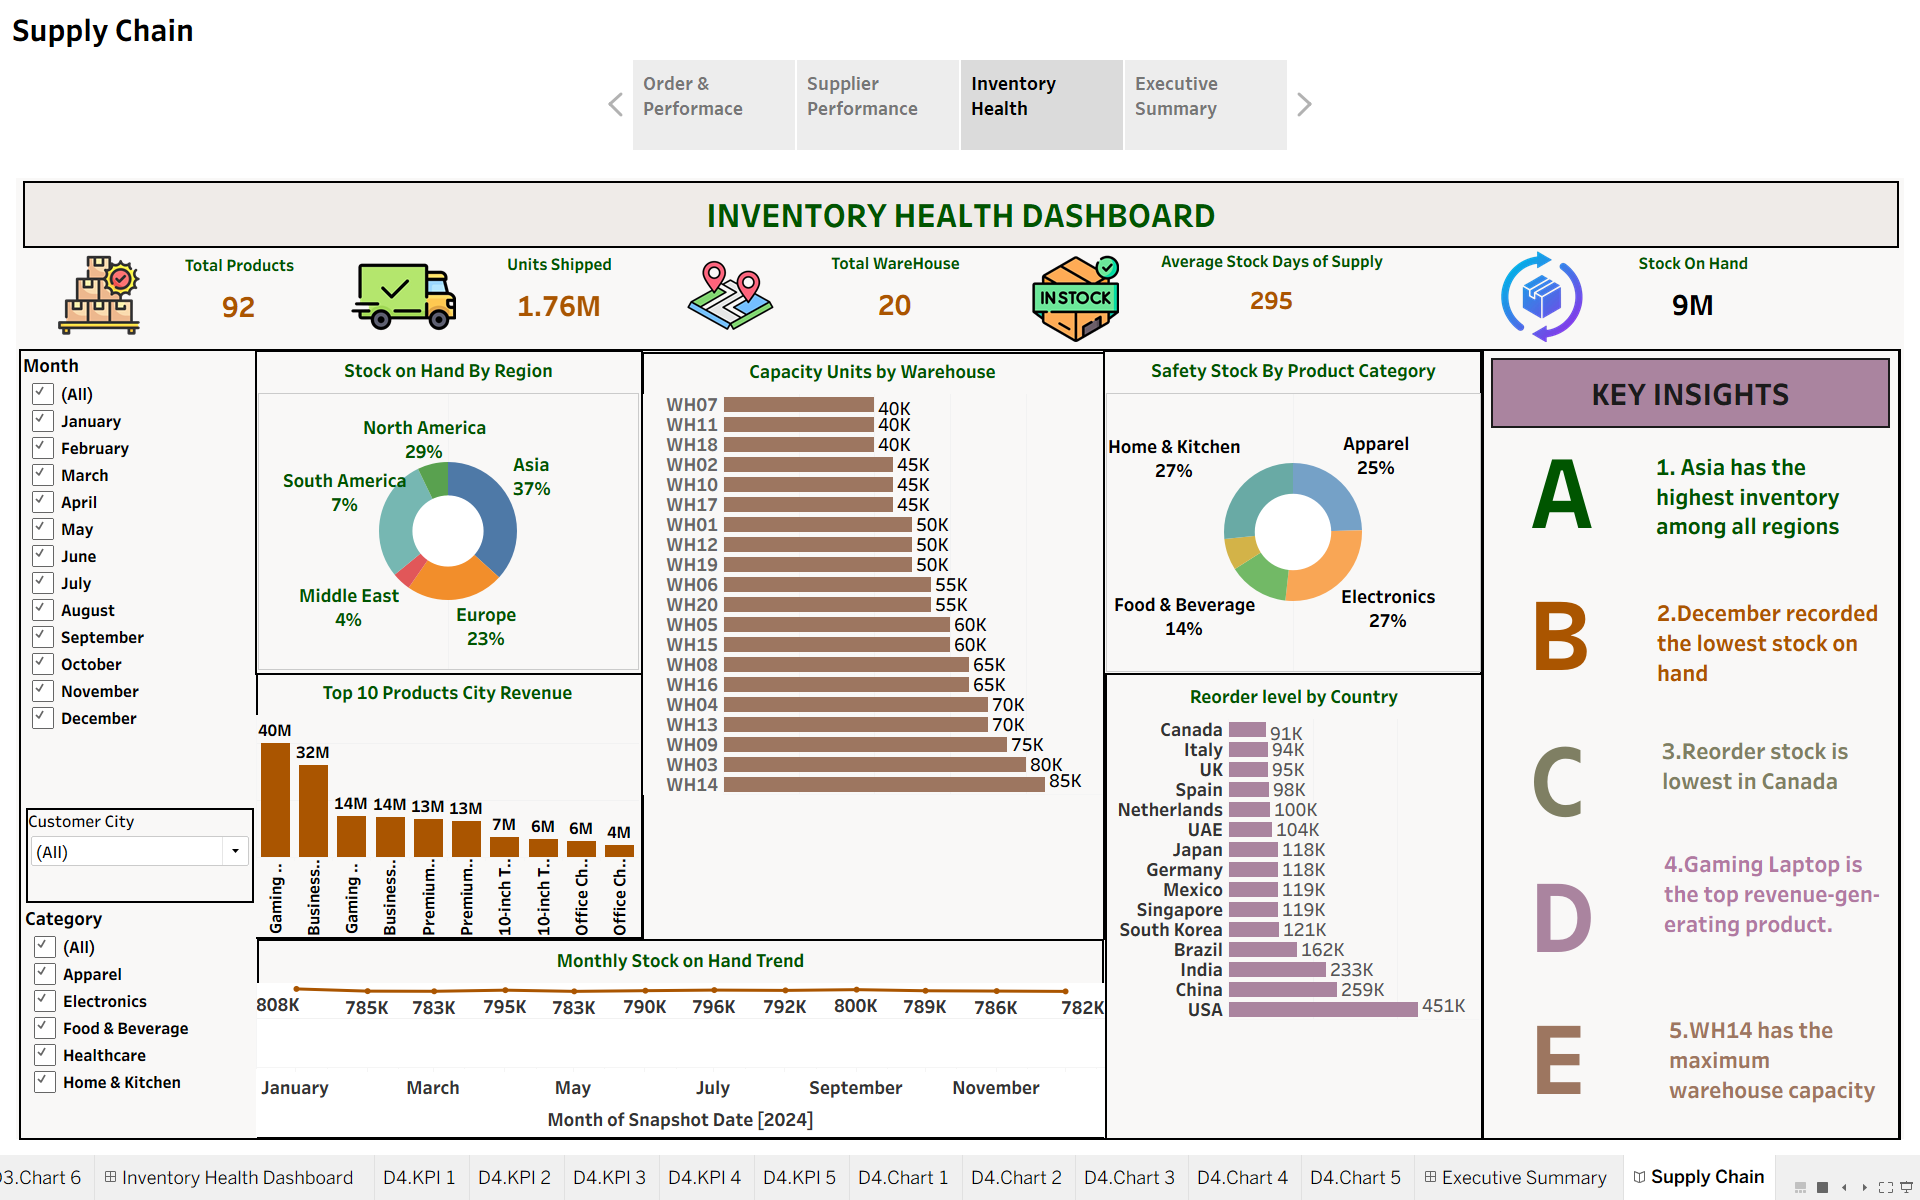

The dashboard page shown, as its layout file describes it:
{"tool":"tableau","page":{"name":"Inventory Health Dashboard","canvas":[1000,1000],"units":"permille","ordinal":1},"visuals":[{"type":"text","box":[8,11,985.2,68.5]},{"type":"image","param":"C:/Users/shrut/Downloads/supplychain_tableau_dashboardfinal.twb Files/Image/What","box":[180.3,75.8,73.3,107.6]},{"type":"worksheet","title":"D3.KPI 5","mark":"Automatic","box":[580.5,78.2,167.1,103.9]},{"type":"worksheet","title":"D3.KPI4","mark":"Automatic","box":[422.5,79.5,87.7,100.2]},{"type":"worksheet","title":"D3.KPI 3","mark":"Automatic","box":[836.5,79.5,97.4,100.2]},{"type":"worksheet","title":"D3.KPI 2","mark":"Automatic","box":[246.4,80.7,86.5,96.6]},{"type":"image","param":"C:/Users/shrut/Downloads/supplychain_tableau_dashboardfinal.twb Files/Image/What","box":[24.6,81.9,57.1,89.2]},{"type":"worksheet","title":"D3.KPI 1","mark":"Automatic","box":[81.7,81.9,79.3,100.2]},{"type":"image","param":"C:/Users/shrut/Downloads/supplychain_tableau_dashboardfinal.twb Files/Image/What","box":[355.8,81.9,59.5,91.7]},{"type":"image","param":"C:/Users/shrut/Downloads/supplychain_tableau_dashboardfinal.twb Files/Image/What","box":[781.2,83.1,57.1,92.9]},{"type":"image","param":"C:/Users/shrut/Downloads/supplychain_tableau_dashboardfinal.twb Files/Image/What","box":[537.9,86.8,49.9,89.2]},{"type":"filter","title":"D3.Chart4","param":"[federated.126etw91dogkyb0zrq07615un7oo].[mn:Order_Date:ok]","box":[8.1,186.4,120.3,465.9]},{"type":"worksheet","title":"D3.Chart 6","mark":"Pie","cols":["Calculation_0655615067176963","Calculation_0655615067201541"],"box":[576.9,187,197.1,326.4]},{"type":"worksheet","title":"D3.Chart 1","mark":"Pie","cols":["Calculation_1891465450762243","Calculation_1891465450762243"],"box":[131.6,187.4,200.1,324.7]},{"type":"worksheet","title":"D3. Chart 5","mark":"Automatic","rows":["Warehouse_ID (Dim!Warehouse)"],"cols":["Capacity_Units"],"box":[333.5,188.3,241,599]},{"type":"text","box":[778.9,191.9,209.7,72.1]},{"type":"text","box":[863.6,264.1,125.6,139.4]},{"type":"text","box":[797.5,282.4,49.3,86.8]},{"type":"text","box":[796.3,392.4,60.1,158.9]},{"type":"text","box":[864.2,410.8,125.6,146.7]},{"type":"worksheet","title":"D3.Chart4","mark":"Automatic","rows":["Revenue"],"cols":["Product_Name"],"box":[130.4,517.1,201.3,267.7]},{"type":"worksheet","title":"D3.Chart 3","mark":"Automatic","rows":["Warehouse_Country"],"cols":["Reorder_Level"],"box":[577.5,520.8,195.3,467]},{"type":"text","box":[866.6,536.7,125.6,146.7]},{"type":"text","box":[796.9,541.6,60.1,158.9]},{"type":"filter","title":"D3.Chart4","param":"[federated.126etw91dogkyb0zrq07615un7oo].[none:Customer_City:nk]","box":[9.3,653.3,119.7,97.2]},{"type":"text","box":[867.8,668.7,124.4,144.2]},{"type":"text","box":[796.9,680.9,60.1,160.2]},{"type":"filter","title":"D3.Chart4","param":"[federated.126etw91dogkyb0zrq07615un7oo].[none:Category:nk]","box":[8.7,752.5,118.5,236.5]},{"type":"worksheet","title":"D3.Chart 2","mark":"Automatic","rows":["Stock_On_Hand"],"cols":["Snapshot_Date"],"box":[130.4,791,445.9,199.3]},{"type":"text","box":[796.9,826.4,60.1,158.9]},{"type":"text","box":[870.2,836.2,119,147.9]}]}

Visuals, with their boxes on the dashboard's canvas, which has no fixed pixel size, in thousandths of its width and height (x1, y1, x2, y2). These are canvas units, not pixel positions in the 1920x1200 screenshot, which may show the page scaled, cropped or inside an application window:
text: {"x1": 8, "y1": 11, "x2": 993, "y2": 80}
image: {"x1": 180, "y1": 76, "x2": 254, "y2": 183}
"D3.KPI 5" worksheet: {"x1": 580, "y1": 78, "x2": 748, "y2": 182}
"D3.KPI4" worksheet: {"x1": 422, "y1": 80, "x2": 510, "y2": 180}
"D3.KPI 3" worksheet: {"x1": 836, "y1": 80, "x2": 934, "y2": 180}
"D3.KPI 2" worksheet: {"x1": 246, "y1": 81, "x2": 333, "y2": 177}
image: {"x1": 25, "y1": 82, "x2": 82, "y2": 171}
"D3.KPI 1" worksheet: {"x1": 82, "y1": 82, "x2": 161, "y2": 182}
image: {"x1": 356, "y1": 82, "x2": 415, "y2": 174}
image: {"x1": 781, "y1": 83, "x2": 838, "y2": 176}
image: {"x1": 538, "y1": 87, "x2": 588, "y2": 176}
"D3.Chart4" filter: {"x1": 8, "y1": 186, "x2": 128, "y2": 652}
"D3.Chart 6" worksheet (Pie marks): {"x1": 577, "y1": 187, "x2": 774, "y2": 513}
"D3.Chart 1" worksheet (Pie marks): {"x1": 132, "y1": 187, "x2": 332, "y2": 512}
"D3. Chart 5" worksheet: {"x1": 334, "y1": 188, "x2": 574, "y2": 787}
text: {"x1": 779, "y1": 192, "x2": 989, "y2": 264}
text: {"x1": 864, "y1": 264, "x2": 989, "y2": 404}
text: {"x1": 798, "y1": 282, "x2": 847, "y2": 369}
text: {"x1": 796, "y1": 392, "x2": 856, "y2": 551}
text: {"x1": 864, "y1": 411, "x2": 990, "y2": 558}
"D3.Chart4" worksheet: {"x1": 130, "y1": 517, "x2": 332, "y2": 785}
"D3.Chart 3" worksheet: {"x1": 578, "y1": 521, "x2": 773, "y2": 988}
text: {"x1": 867, "y1": 537, "x2": 992, "y2": 683}
text: {"x1": 797, "y1": 542, "x2": 857, "y2": 700}
"D3.Chart4" filter: {"x1": 9, "y1": 653, "x2": 129, "y2": 750}
text: {"x1": 868, "y1": 669, "x2": 992, "y2": 813}
text: {"x1": 797, "y1": 681, "x2": 857, "y2": 841}
"D3.Chart4" filter: {"x1": 9, "y1": 752, "x2": 127, "y2": 989}
"D3.Chart 2" worksheet: {"x1": 130, "y1": 791, "x2": 576, "y2": 990}
text: {"x1": 797, "y1": 826, "x2": 857, "y2": 985}
text: {"x1": 870, "y1": 836, "x2": 989, "y2": 984}
